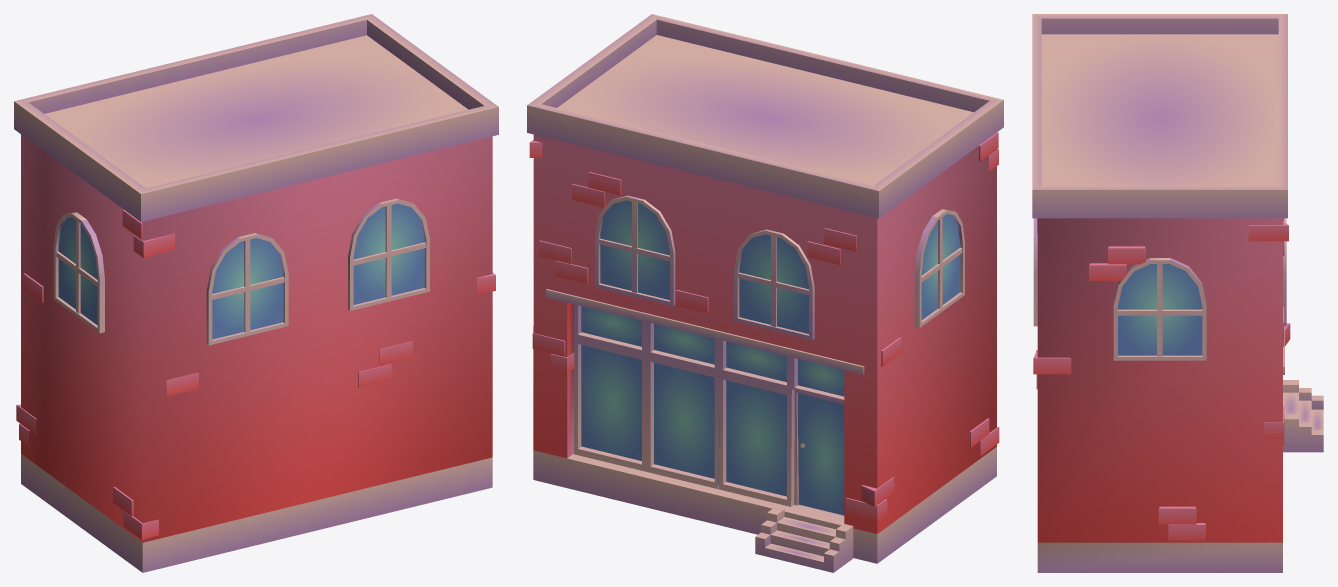
Rendered from SM_2F_Half_07.fbx.
3 renders of one model, left to right at view 1: azimuth 30°, elevation 25°; view 2: azimuth 150°, elevation 25°; view 3: azimuth 270°, elevation 25°, orthographic. The views are drawn at different scales.
Visible parts, largest first — view 1: SM_2F_Half_07; view 2: SM_2F_Half_07; view 3: SM_2F_Half_07.
Boxes of the visible parts, box(x1,y1,x2,y2) form: SM_2F_Half_07: box(14, 14, 498, 572); SM_2F_Half_07: box(527, 14, 1003, 572); SM_2F_Half_07: box(1032, 14, 1323, 572).
Size of the model in its own units: 7.91 by 5.5 by 8.03.
